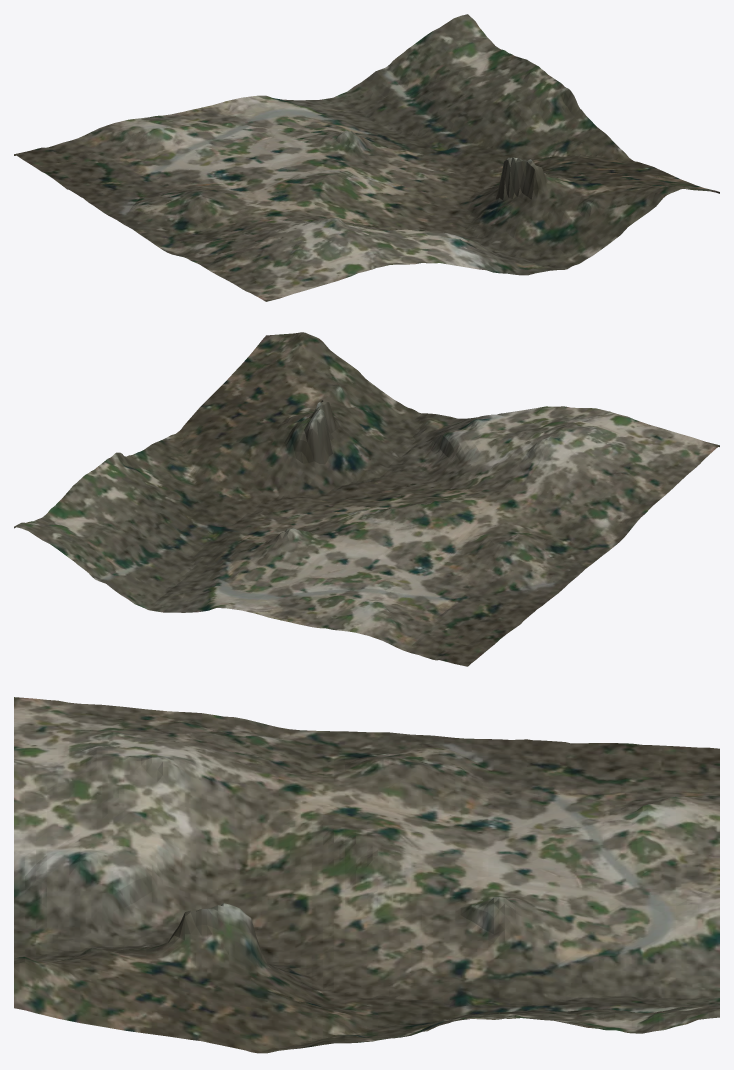
The picture shows the model from 3 angles, top to bottom: view 1: azimuth 30°, elevation 25°; view 2: azimuth 150°, elevation 25°; view 3: azimuth 270°, elevation 25°; orthographic projection. The views are drawn at different scales.
Bounding box in the file's own units: 250 × 39.88 × 241.
1 material, 1 textured.
